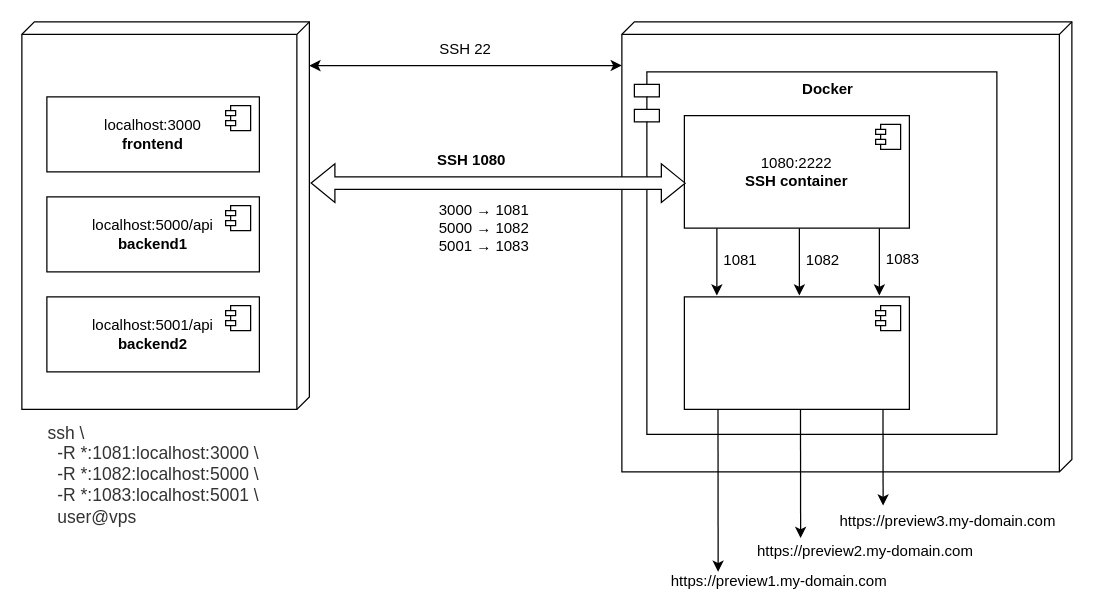
This 1094x616 diagram has some shape labels left out. The box of each missing label's shape, as (x1, y1, x2, y2) in pixels:
local machine: (21, 21, 309, 409)
Traefik: (683, 296, 909, 409)
VPS gateway: (621, 21, 1072, 472)
